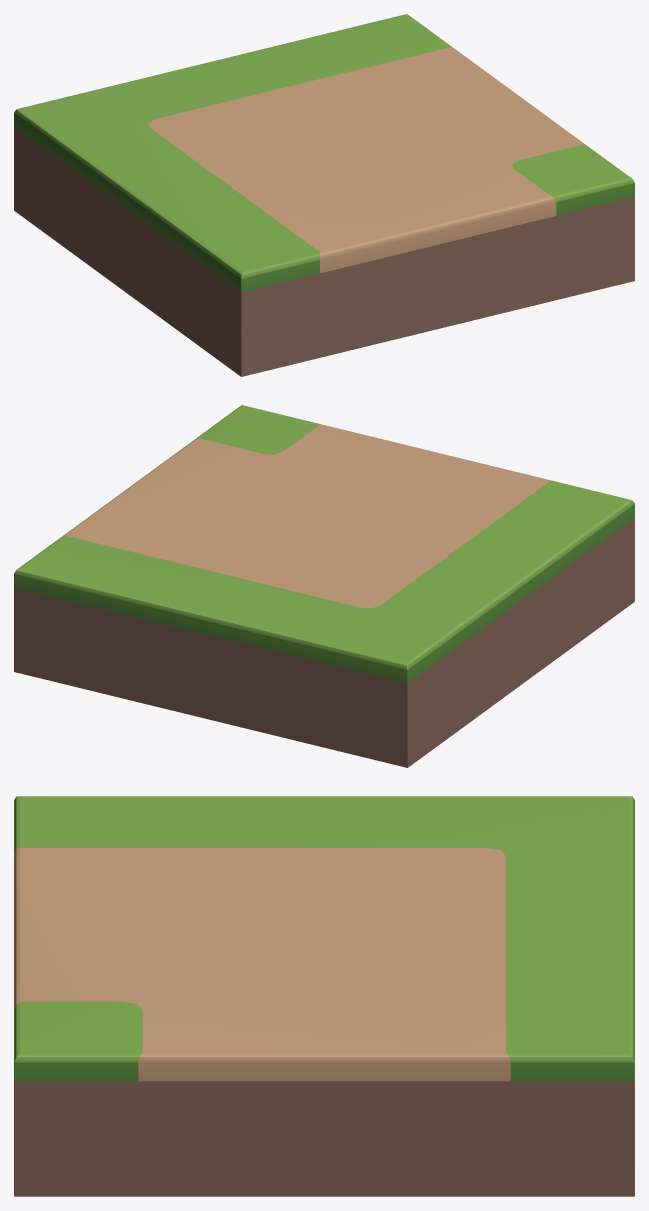
The model's file is dirt_path_tile_corner_01.glb.
3 renders of one model, top to bottom at view 1: azimuth 30°, elevation 25°; view 2: azimuth 150°, elevation 25°; view 3: azimuth 270°, elevation 25°, orthographic. The views are drawn at different scales.
Visible parts, largest first — view 1: dirt_path_tile_corner_01; view 2: dirt_path_tile_corner_01; view 3: dirt_path_tile_corner_01.
Part boxes in pixels (x1,y1,x2,y2): dirt_path_tile_corner_01: [14, 14, 634, 376]; dirt_path_tile_corner_01: [14, 405, 634, 767]; dirt_path_tile_corner_01: [14, 796, 634, 1196].
Size of the model in its own units: 1 by 0.25 by 1.
